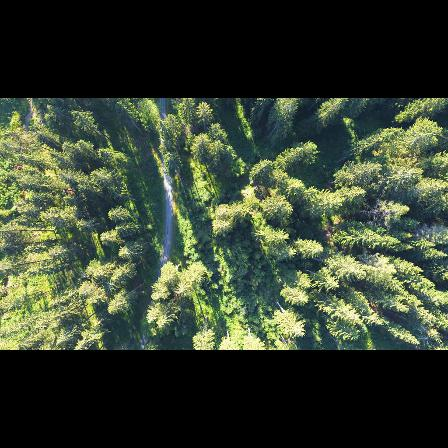Sick: (101, 277, 121, 294)
